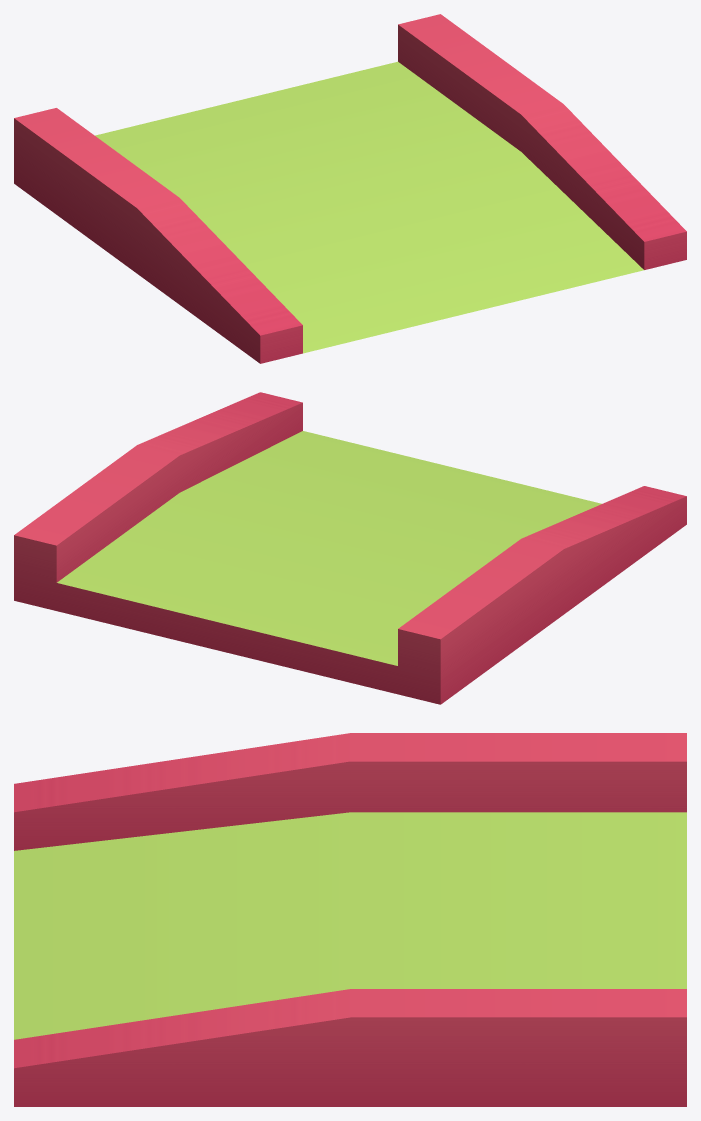
The model's file is start.fbx.
3 renders of one model, top to bottom at view 1: azimuth 30°, elevation 25°; view 2: azimuth 150°, elevation 25°; view 3: azimuth 270°, elevation 25°, orthographic. The views are drawn at different scales.
Visible parts, largest first — view 1: start; view 2: start; view 3: start.
Part boxes in pixels (<box>): start: <box>14,14,686,363</box>; start: <box>14,392,686,704</box>; start: <box>14,733,686,1106</box>.
Bounding box in the file's own units: 99.99 × 14.67 × 99.99.
1 material, 1 textured.
